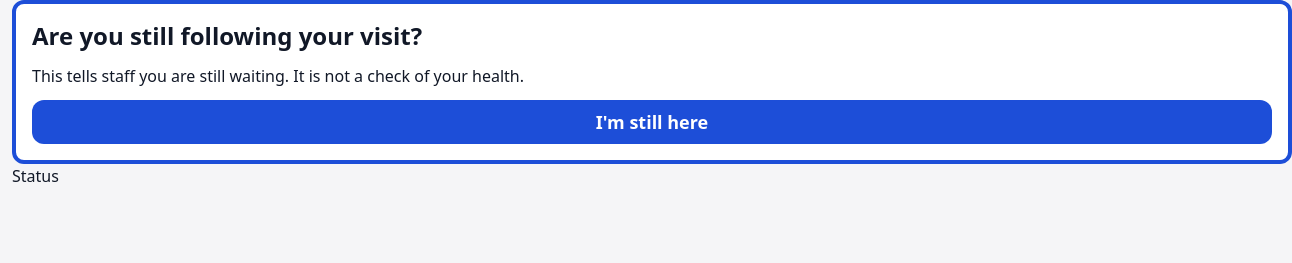
Test: StillHerePrompt tap › says the tap did not save, without telling a waiting patient to go to the desk
The image size is (1292, 263).
Click the button "I'm still here".
click(652, 122)  # box x1=32 y1=100 x2=1272 y2=144
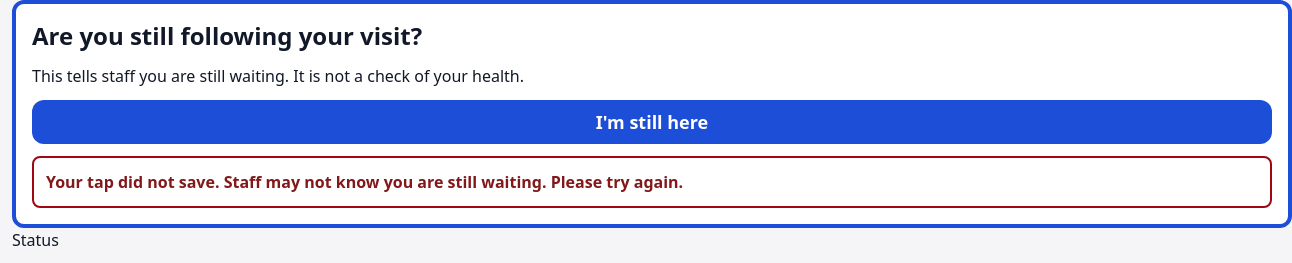
Expected: the message shows "Your tap did not save. Staff may not know you are still waiting. Please try again.", x1=46 y1=171 x2=683 y2=193
